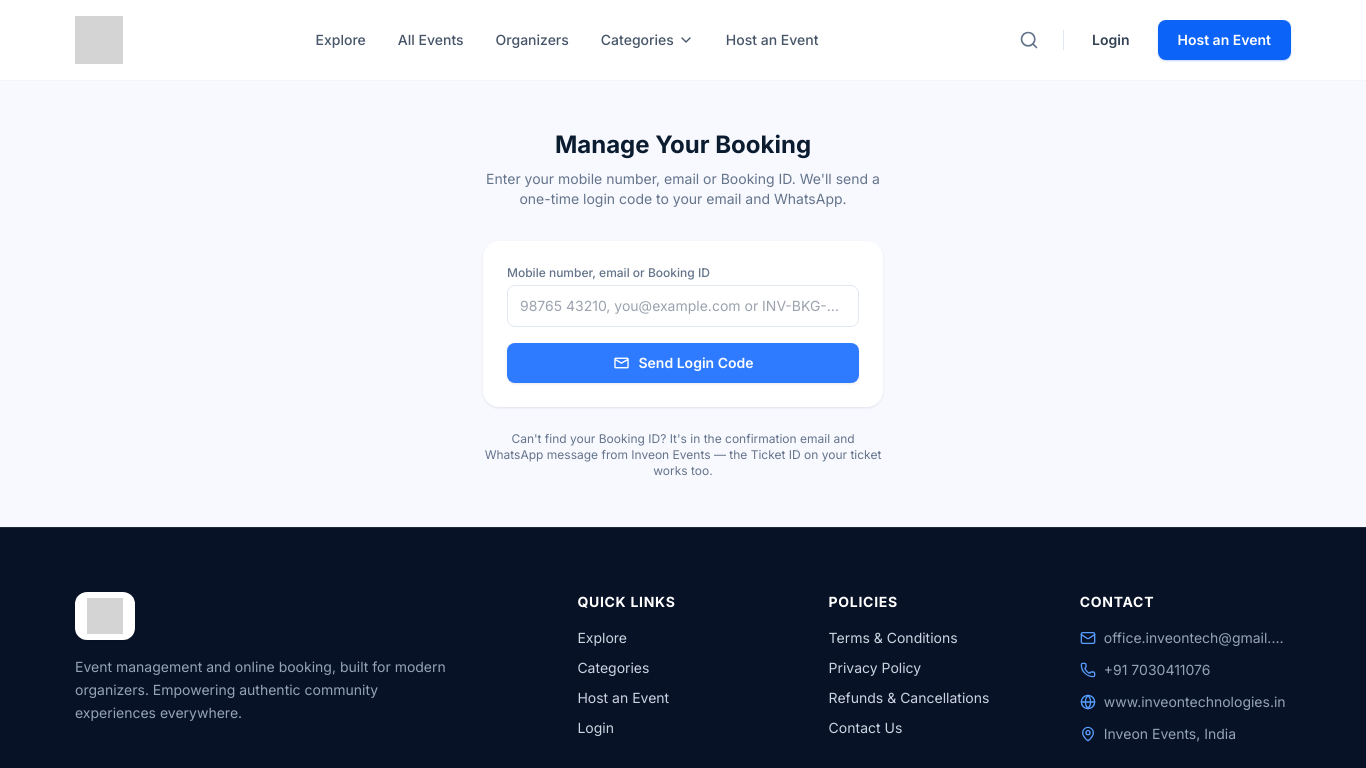
it: VerificationLookupPage › shows the server message under the field when the booking does not exist
Type "inv-bkg-2026-nope00" into the field labelled "Mobile number, email or Booking ID" at (683, 306), box 507,285 -> 859,327
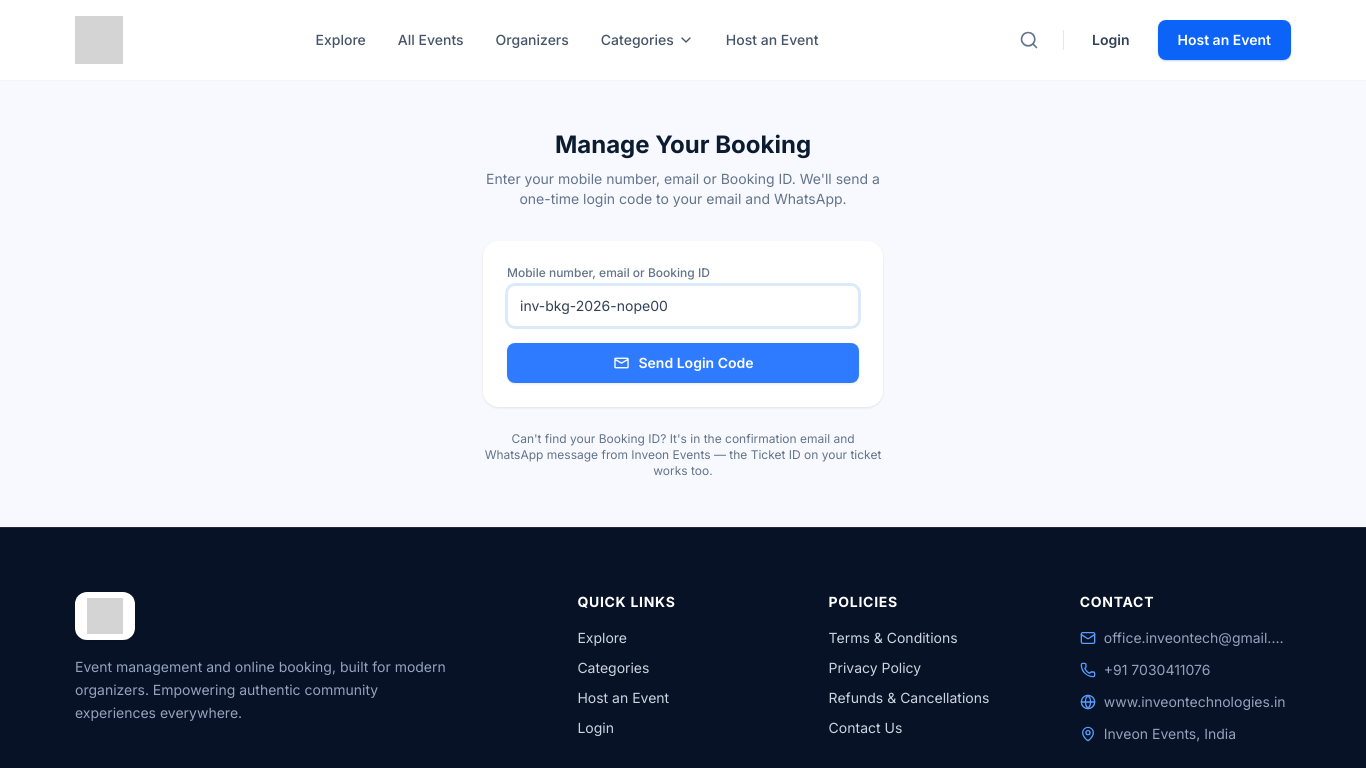
Click the button "Send Login Code" at (683, 363), box 507,343 -> 859,383
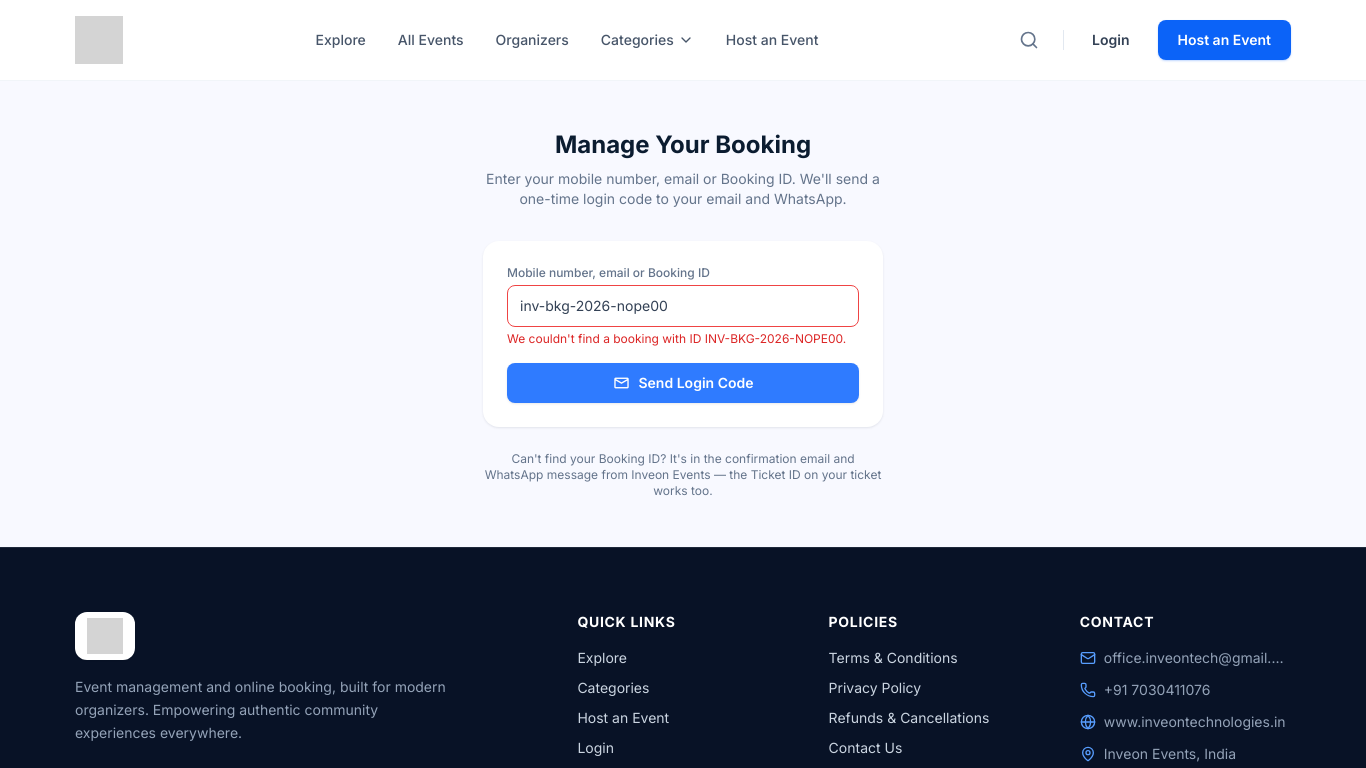
Check: the button "Send Login Code" is shown, box 507,363 -> 859,403
Check: the text "We couldn't find a booking with ID INV-BKG-2026-NOPE00." is shown, box 507,331 -> 859,347
